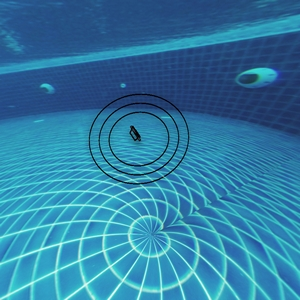circle: (82, 80, 198, 201)
submarine: (130, 130, 143, 144), (128, 127, 130, 129)
